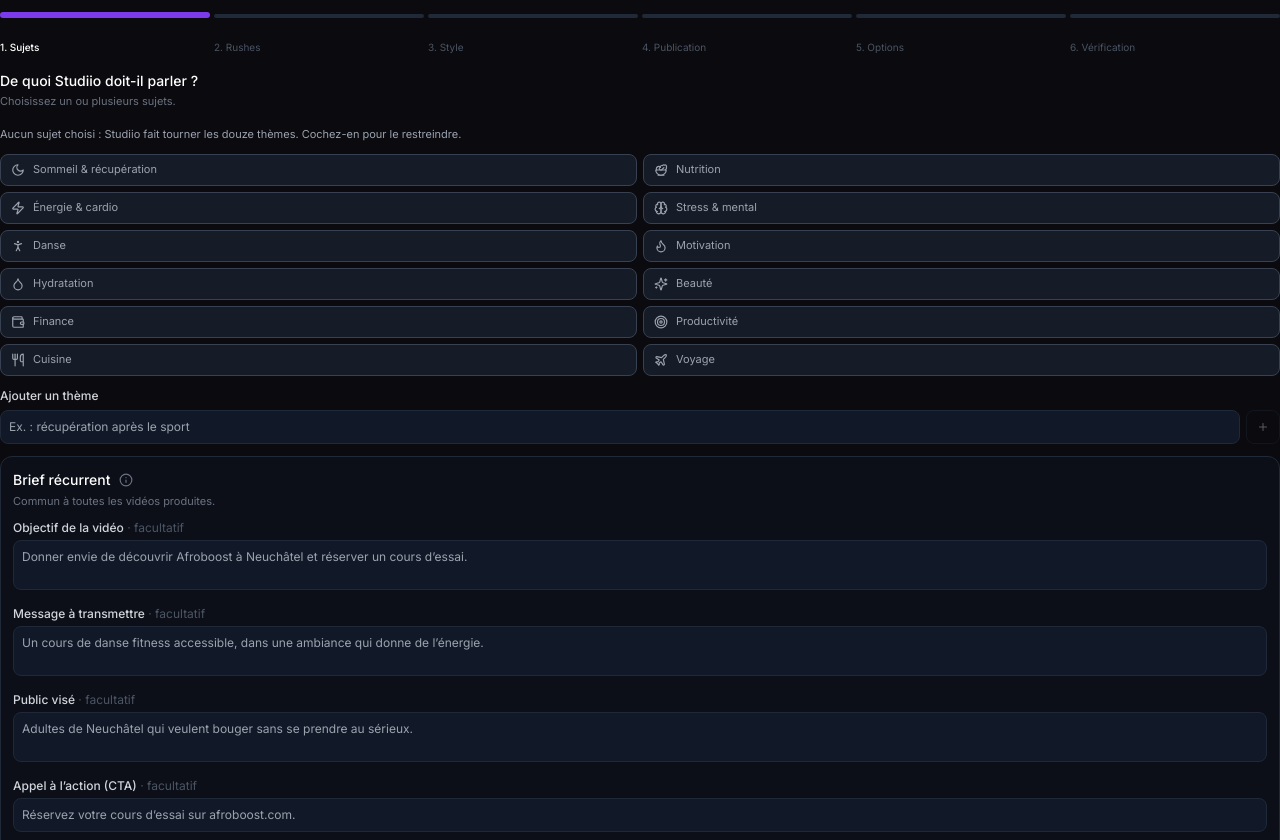
L heure de publication › une saisie incomplète (champ vide) n écrit rien — pas de retour forcé à 18:00
This screenshot has width=1280, height=840.
Check: the text "De quoi Studiio doit-il parler ?" is shown, box [0, 72, 198, 89]
Click the button named "Publication" at (747, 16), box [642, 14, 852, 18]
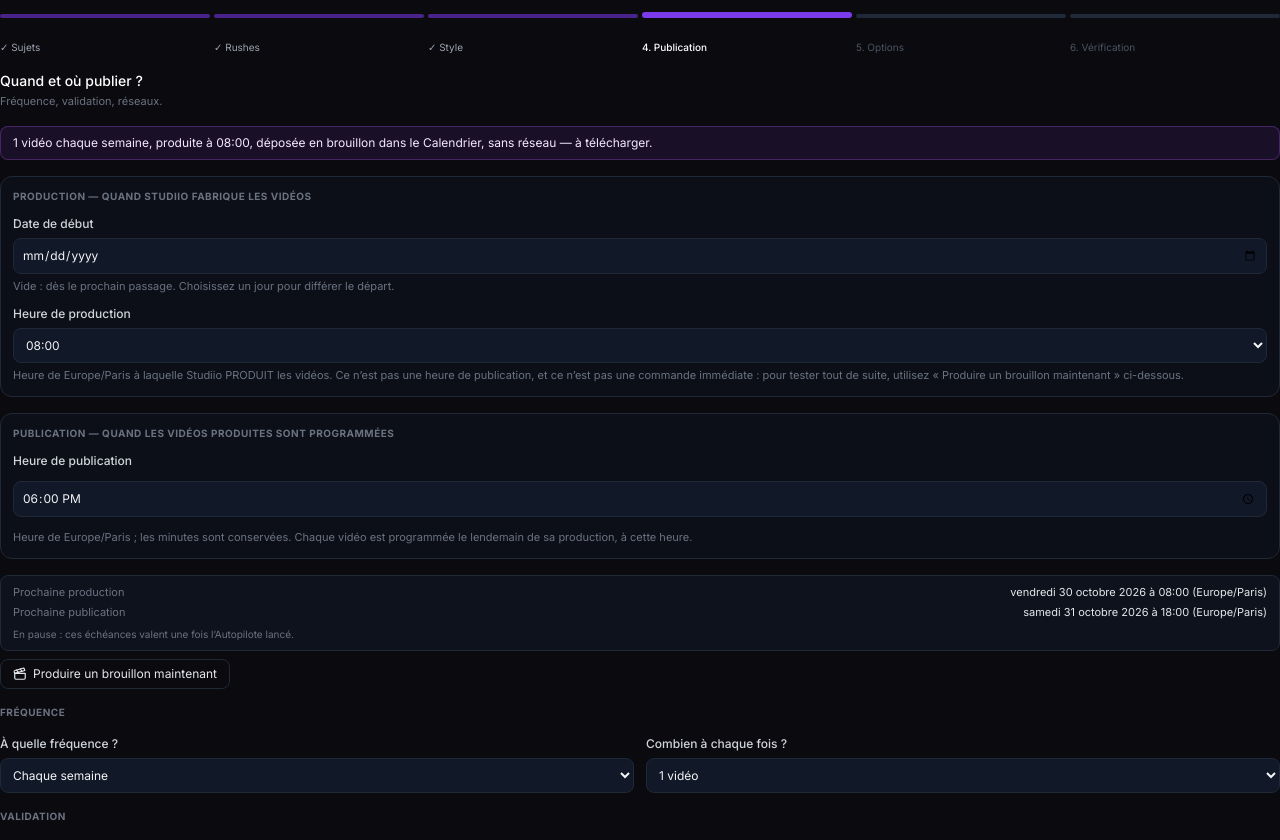
Check: the time field labelled "Heure de publication" is shown, box [13, 480, 1267, 517]
